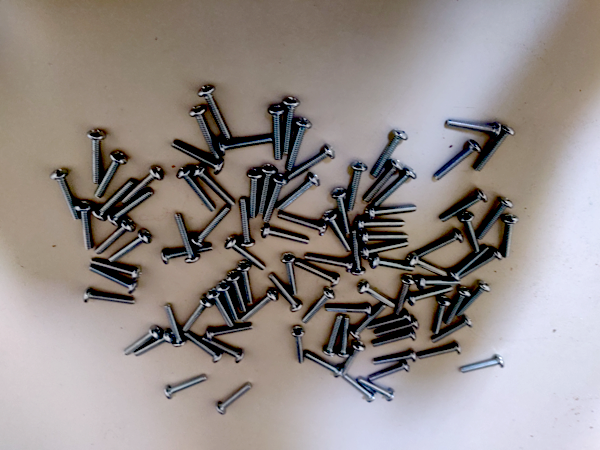longscrew: (432, 141, 480, 189), (175, 165, 216, 217), (88, 178, 137, 219), (117, 163, 166, 204), (170, 140, 224, 177), (196, 165, 238, 212), (414, 228, 465, 265), (190, 103, 220, 165), (369, 128, 406, 178), (273, 174, 319, 214), (187, 207, 234, 246), (200, 84, 231, 143), (46, 167, 79, 221), (475, 127, 514, 171), (474, 197, 512, 242), (287, 144, 337, 178), (439, 190, 487, 225), (370, 171, 416, 206), (90, 154, 129, 195), (361, 163, 402, 202), (105, 192, 156, 223), (217, 133, 275, 160), (283, 118, 313, 169), (460, 249, 501, 285), (163, 243, 217, 270), (226, 237, 267, 272), (460, 355, 507, 385), (90, 222, 135, 253), (109, 232, 154, 263), (452, 247, 491, 281), (355, 282, 396, 314), (90, 255, 140, 281), (323, 210, 353, 253), (83, 129, 106, 185), (458, 280, 491, 319), (240, 288, 280, 320), (265, 175, 291, 224), (182, 296, 216, 333), (184, 333, 222, 366), (269, 274, 302, 312), (298, 292, 336, 325), (90, 268, 136, 295), (430, 320, 470, 351), (176, 210, 198, 266), (407, 287, 455, 312), (351, 305, 385, 340), (202, 337, 244, 365), (164, 300, 187, 351), (266, 102, 285, 163), (280, 96, 299, 157), (443, 120, 504, 139), (278, 214, 328, 237), (124, 326, 163, 355), (135, 329, 174, 358), (205, 324, 256, 346), (344, 160, 365, 212), (221, 382, 253, 416), (417, 343, 461, 367), (296, 262, 338, 287), (367, 203, 419, 223), (370, 363, 410, 389), (375, 320, 420, 343), (234, 262, 258, 305), (285, 324, 309, 367), (305, 353, 348, 377), (363, 242, 412, 263), (443, 288, 470, 326), (344, 375, 377, 406), (362, 378, 396, 408), (459, 212, 481, 258), (408, 254, 450, 278), (262, 226, 312, 246), (213, 283, 240, 320), (372, 330, 415, 353), (209, 291, 236, 327), (222, 273, 249, 309), (326, 302, 377, 321), (166, 376, 206, 400), (371, 351, 419, 371), (332, 186, 350, 239), (76, 199, 95, 249), (366, 314, 413, 334), (258, 167, 275, 222), (394, 275, 414, 320), (338, 344, 366, 376), (301, 255, 359, 270), (280, 251, 298, 298), (85, 291, 138, 306), (501, 215, 519, 259), (322, 317, 342, 356), (349, 230, 365, 277), (432, 297, 452, 334), (357, 220, 410, 233), (418, 279, 465, 293), (248, 168, 260, 219), (362, 232, 409, 245), (337, 317, 352, 357), (241, 197, 252, 248), (370, 261, 415, 272)
